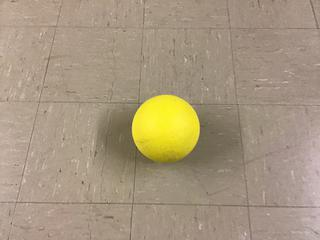power_cell: (125, 86, 209, 166)
